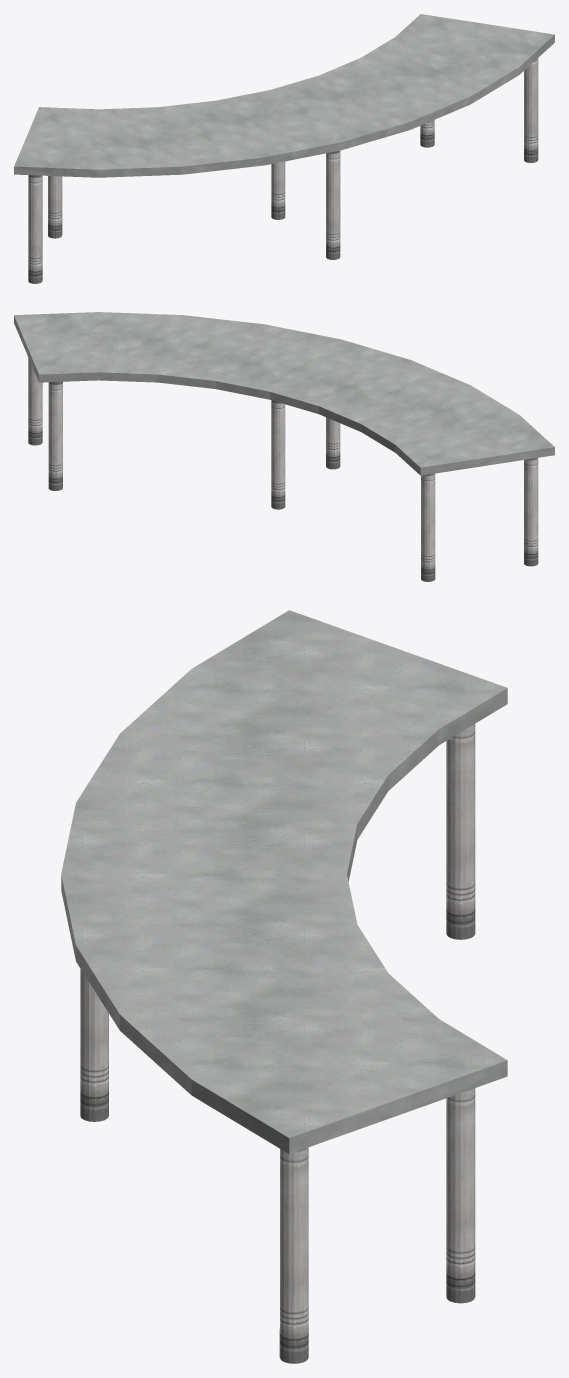
Rendered from frn_all_mdrn_coffee_table_s02_l0.fbx.
3 views of the same model, one above another, from view 1: azimuth 30°, elevation 25°; view 2: azimuth 150°, elevation 25°; view 3: azimuth 270°, elevation 25° (orthographic). The views are drawn at different scales.
Parts seen in each view (by area): view 1: mesh_node; view 2: mesh_node; view 3: mesh_node.
Part boxes in pixels (bbox=[...]): mesh_node: bbox=[14, 14, 554, 283]; mesh_node: bbox=[14, 312, 554, 581]; mesh_node: bbox=[61, 610, 507, 1363].
Size of the model in its own units: 2.81 by 0.6 by 1.
